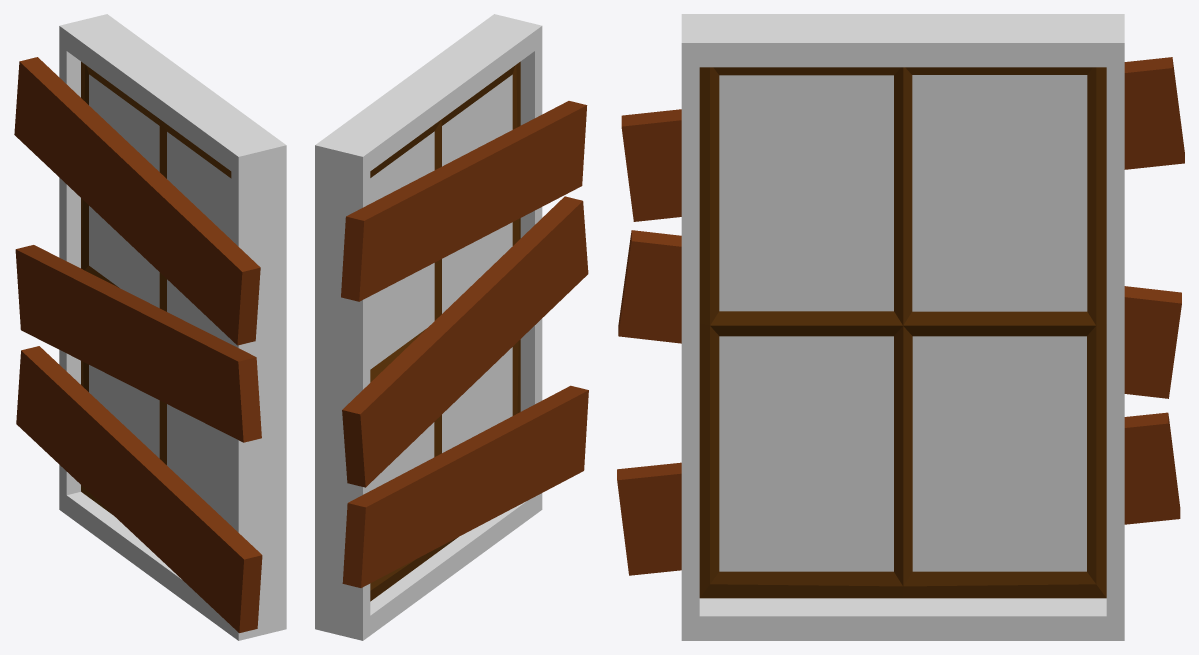
The model's file is fenetre.fbx.
3 views of the same model, side by side, from view 1: azimuth 30°, elevation 25°; view 2: azimuth 150°, elevation 25°; view 3: azimuth 270°, elevation 25° (orthographic). The views are drawn at different scales.
Parts seen in each view (by area): view 1: Cube, Cube.001, Cube.002, Cube.003; view 2: Cube, Cube.003, Cube.002, Cube.001; view 3: Cube, Cube.002, Cube.001, Cube.003.
Part boxes in pixels (x1,y1,x2,y2): Cube: (59,14,286,640); Cube.001: (14,57,260,345); Cube.002: (16,346,262,633); Cube.003: (15,245,261,442); Cube: (315,14,542,640); Cube.003: (342,196,588,487); Cube.002: (342,385,588,587); Cube.001: (341,101,587,301); Cube: (681,14,1124,640); Cube.002: (617,412,1180,575); Cube.001: (621,57,1184,221); Cube.003: (618,230,1181,398).
Bounding box in the file's own units: 88.72 × 599 × 515.
